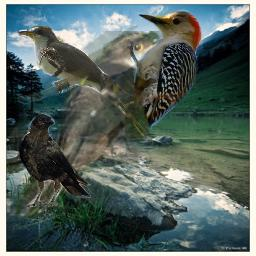Crow: (17, 113, 91, 207)
Cuckoo: (7, 31, 172, 223), (18, 26, 147, 137)
Woodpecker: (120, 4, 219, 139)
